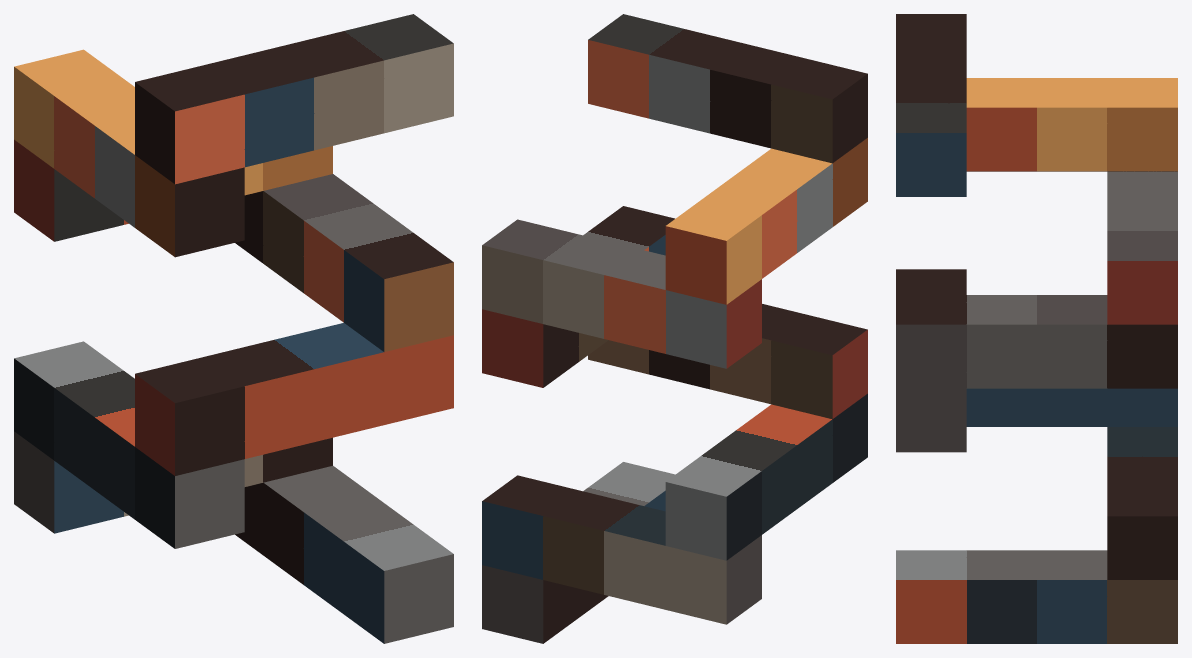
Rendered from feder2.fbx.
3 views of the same model, side by side, from view 1: azimuth 30°, elevation 25°; view 2: azimuth 150°, elevation 25°; view 3: azimuth 270°, elevation 25° (orthographic). The views are drawn at different scales.
Visible parts, largest first — view 1: cube_4, cube_3, cube, cube_7, cube_1, cube_5, cube_6, cube_2; view 2: cube_4, cube_2, cube_6, cube_5, cube_1, cube_3, cube_7, cube; view 3: cube_7, cube, cube_5, cube_4, cube_6, cube_2, cube_1, cube_3.
Boxes of the visible parts, <box> form: cube_4: <box>135,14,453,184</box>; cube_3: <box>135,323,453,475</box>; cube: <box>235,466,453,643</box>; cube_7: <box>235,174,453,351</box>; cube_1: <box>14,341,244,548</box>; cube_5: <box>14,49,244,257</box>; cube_6: <box>14,139,332,241</box>; cube_2: <box>14,431,332,533</box>; cube_4: <box>588,14,867,163</box>; cube_2: <box>482,475,761,624</box>; cube_6: <box>482,219,761,368</box>; cube_5: <box>665,138,867,304</box>; cube_1: <box>665,393,867,560</box>; cube_3: <box>588,304,867,419</box>; cube_7: <box>482,206,674,387</box>; cube: <box>482,462,675,643</box>; cube_7: <box>896,295,1177,388</box>; cube: <box>896,550,1177,643</box>; cube_5: <box>966,78,1177,171</box>; cube_4: <box>896,14,966,196</box>; cube_6: <box>1107,171,1177,324</box>; cube_2: <box>1107,427,1177,579</box>; cube_1: <box>966,388,1177,426</box>; cube_3: <box>896,269,966,452</box>.
Bounding box in the file's own units: 25 × 50 × 25.
1 material, 1 textured.
